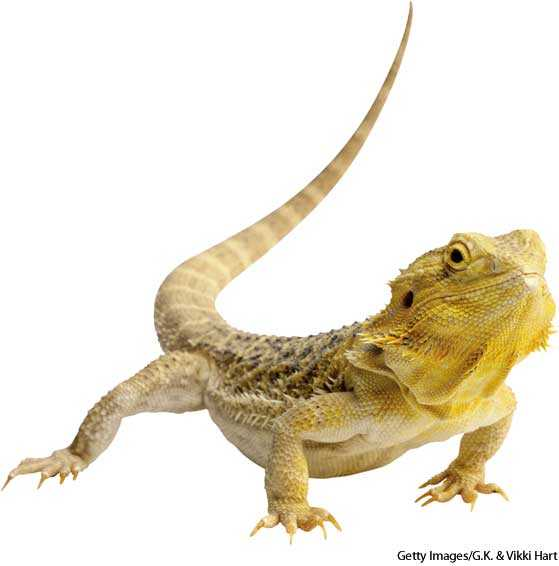bearded: (3, 3, 559, 540)
